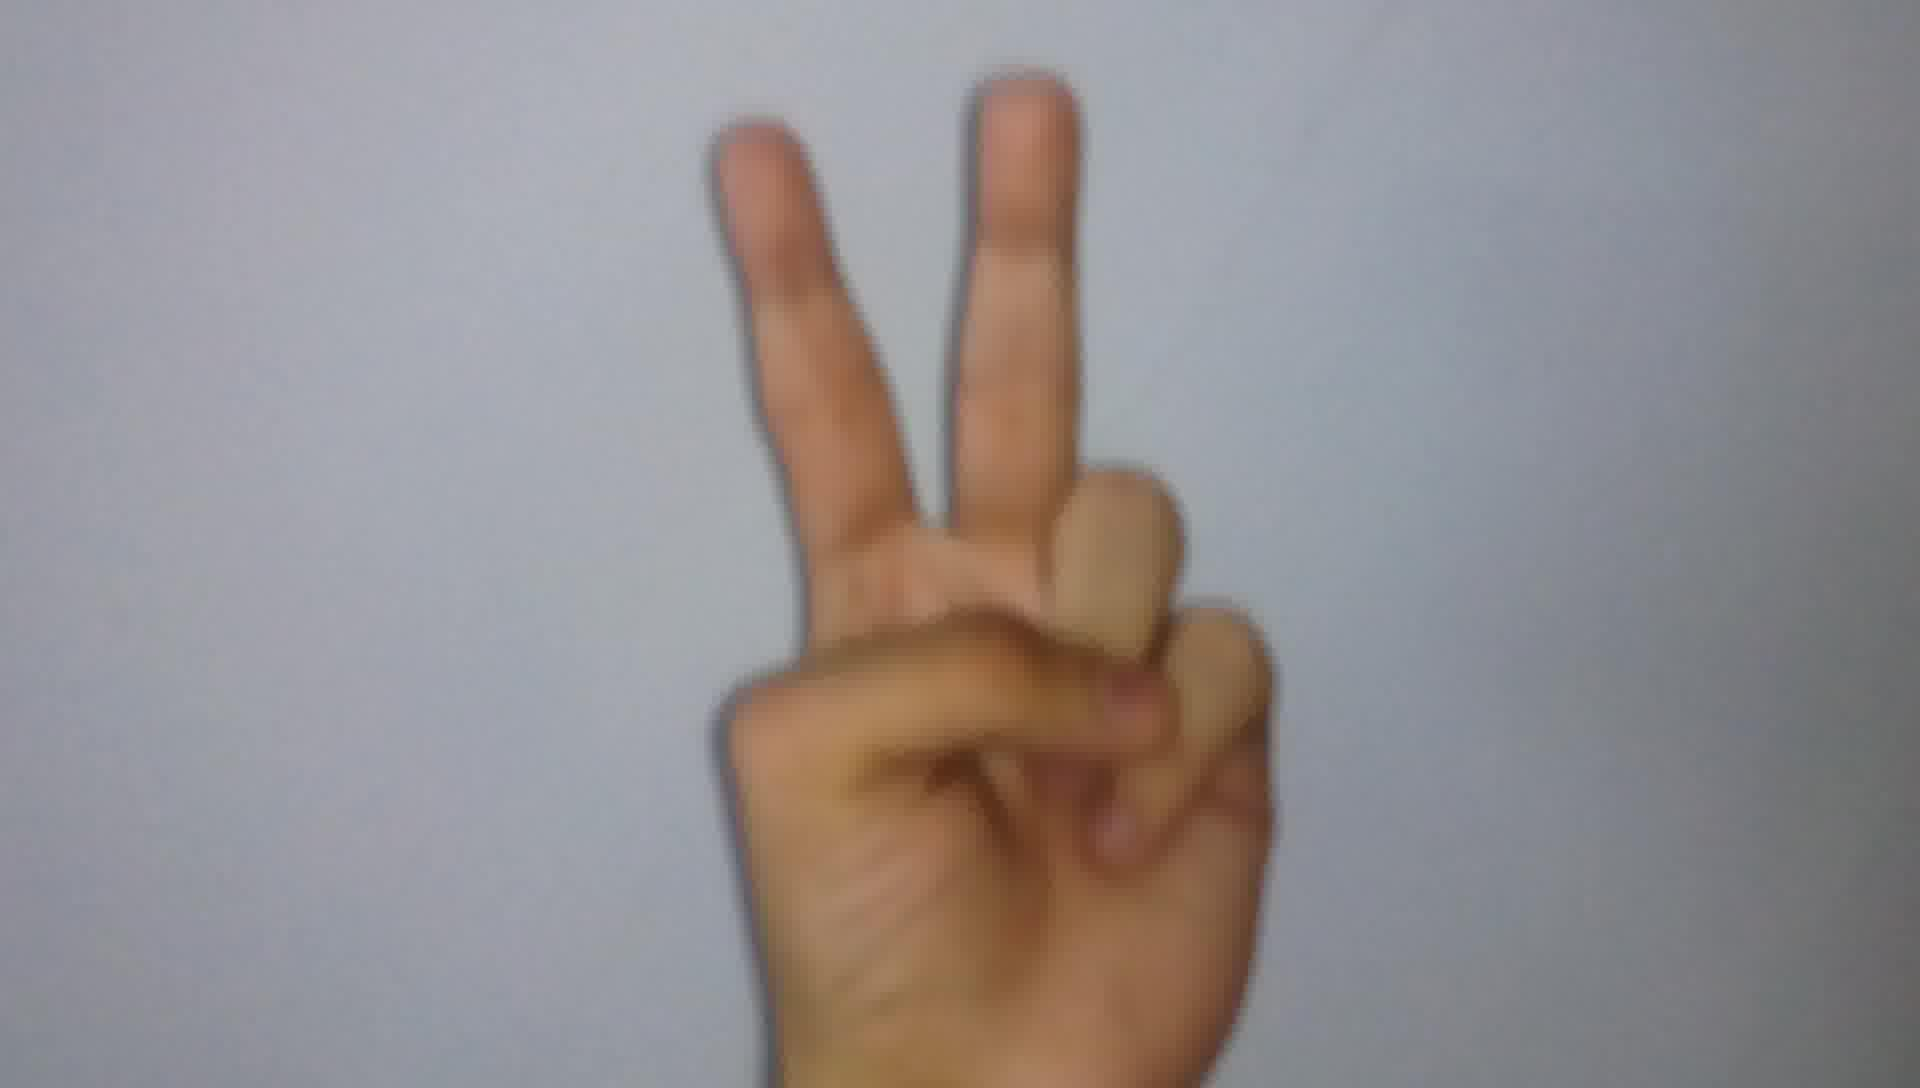V: (676, 60, 1279, 1063)
